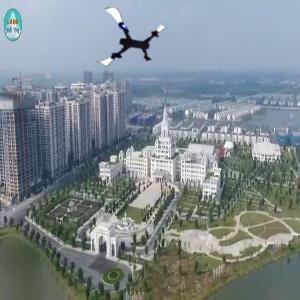drone: (94, 10, 162, 78)
